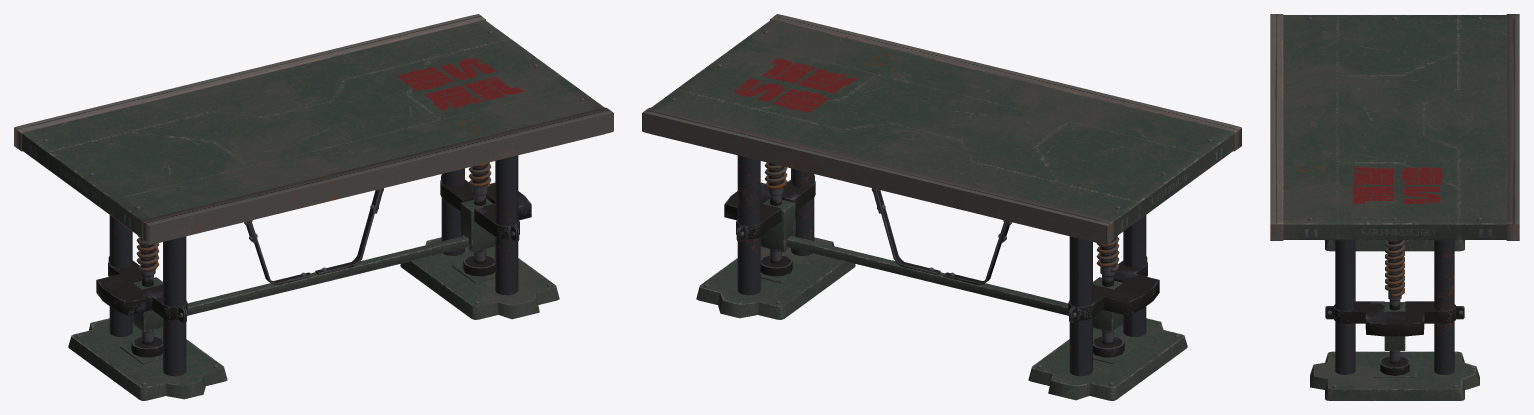
File: table.glb
The picture shows the model from 3 angles, left to right: view 1: azimuth 30°, elevation 25°; view 2: azimuth 150°, elevation 25°; view 3: azimuth 270°, elevation 25°; orthographic projection. The views are drawn at different scales.
Parts seen in each view (by area): view 1: table_low.001, table_low; view 2: table_low.001, table_low; view 3: table_low.001, table_low.
Boxes of the visible parts, x1,y1,x2,y2 form: table_low.001: [14, 14, 613, 376]; table_low: [43, 30, 584, 400]; table_low.001: [642, 14, 1241, 376]; table_low: [671, 30, 1212, 400]; table_low.001: [1270, 14, 1519, 375]; table_low: [1307, 17, 1482, 400].
Size of the model in its own units: 2 by 0.8377 by 1.
Materials: 2 (2 with a texture image).
